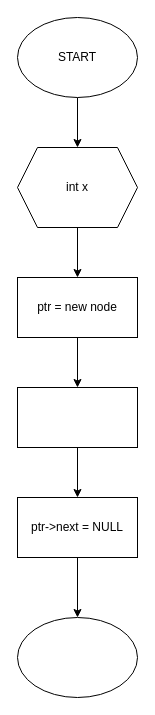
The diagram is 155 pixels wide and 715 high, and some of its shapes have lost their labels. Each missing label, with the box of its shape:
END return ptr: (16, 616, 138, 698)
ptr->info = x: (16, 386, 138, 448)
